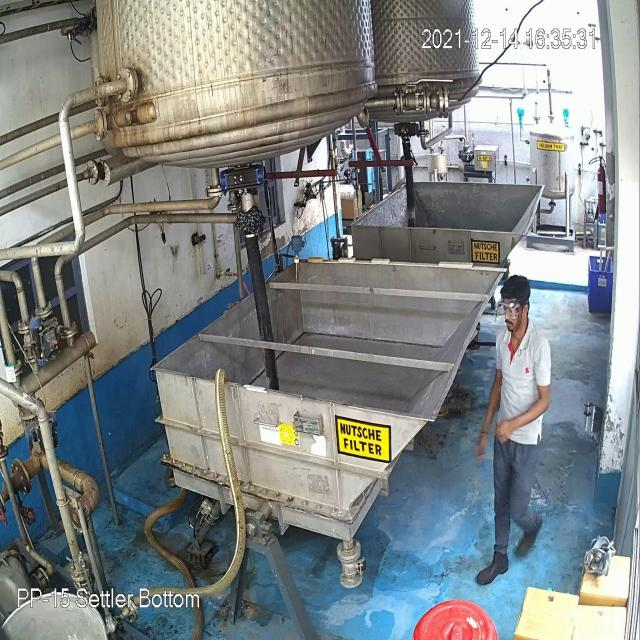No_Gloves: (24, 45, 524, 428)
